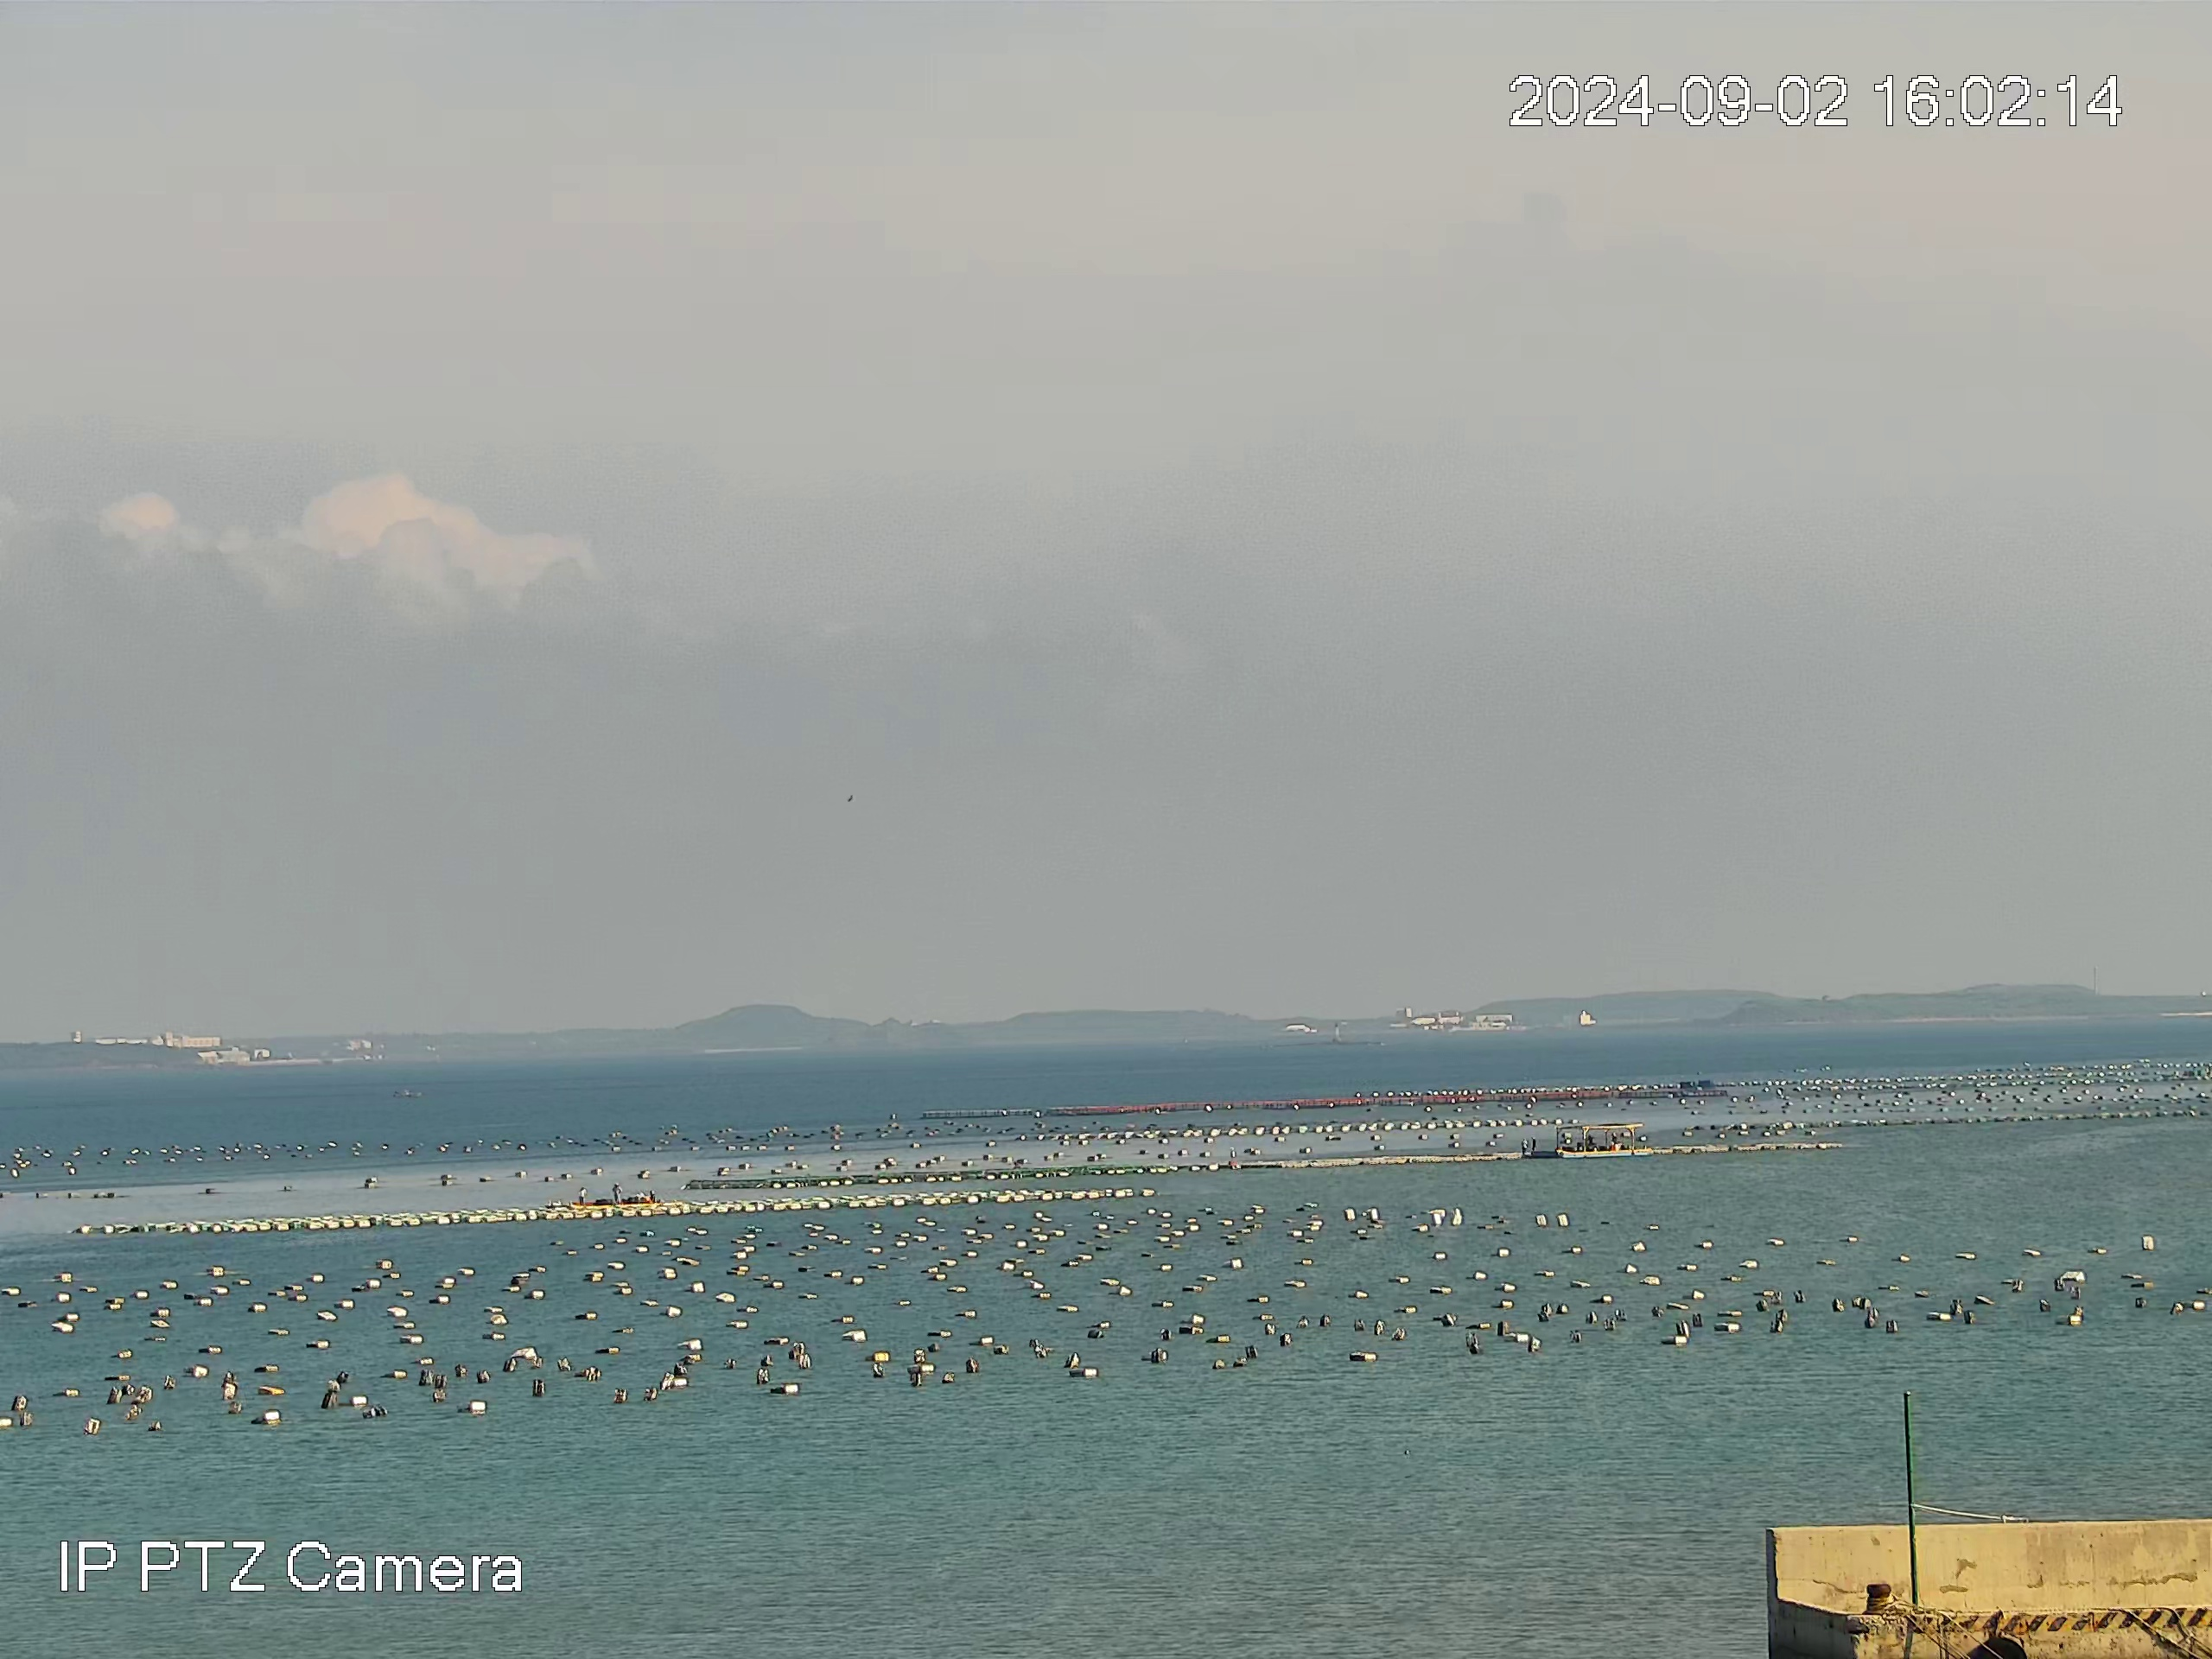boat: (1554, 1122, 1655, 1159), (569, 1182, 662, 1209), (391, 1087, 423, 1099)
